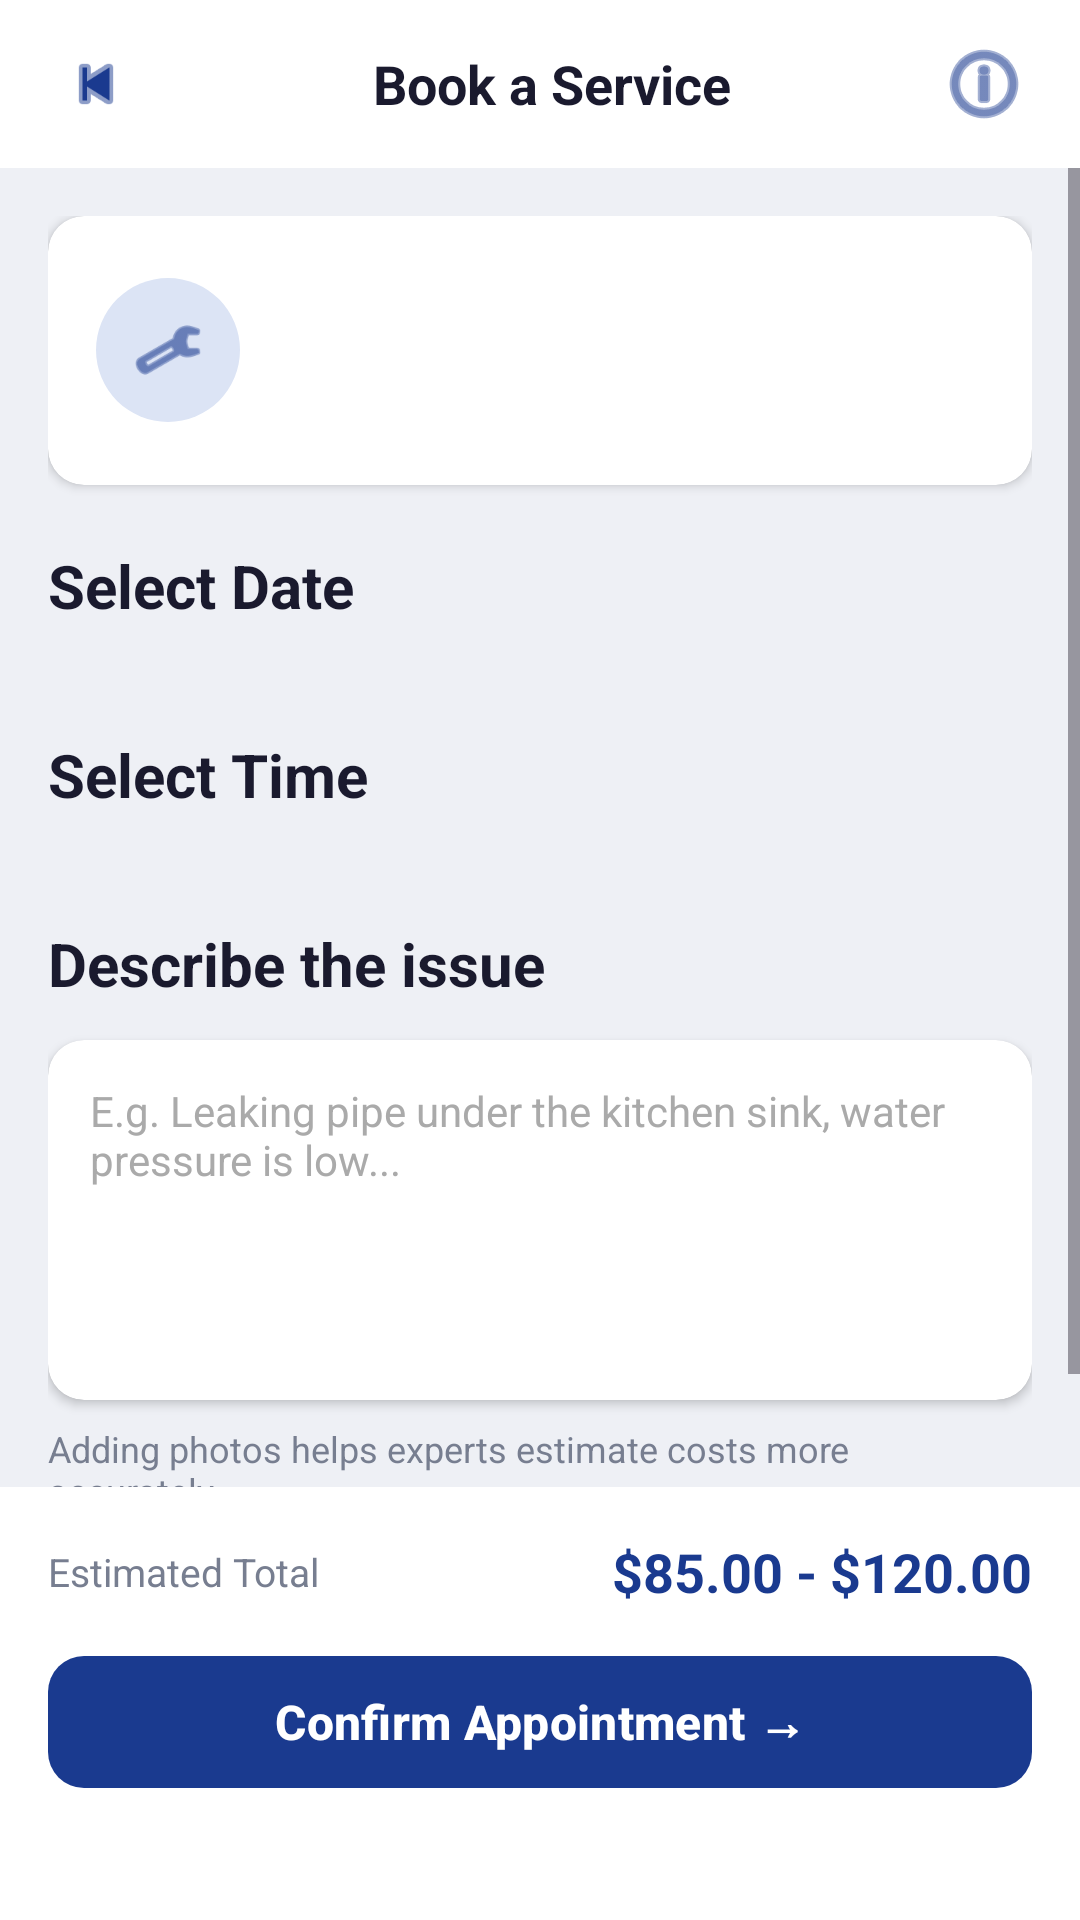

Icon bounding boxes for this 1080×1920 phone screenshot, format (left=x1, top=y1, right=x2, bottom=y2):
info details: (left=949, top=49, right=1019, bottom=119)
manage: (left=136, top=325, right=200, bottom=375)
previous: (left=79, top=64, right=113, bottom=104)
